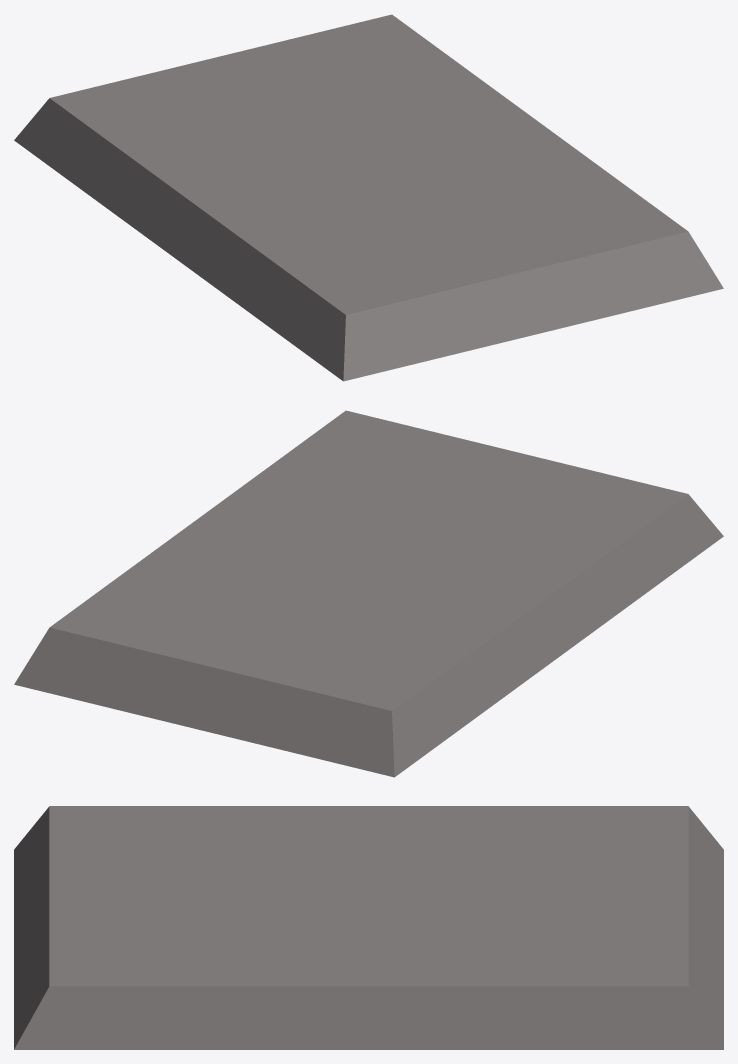
Rendered from superalloy.glb.
3 renders of one model, top to bottom at view 1: azimuth 30°, elevation 25°; view 2: azimuth 150°, elevation 25°; view 3: azimuth 270°, elevation 25°, orthographic. The views are drawn at different scales.
Parts seen in each view (by area): view 1: superalloy; view 2: superalloy; view 3: superalloy.
Part boxes in pixels (x1,y1,x2,y2): superalloy: (14, 14, 723, 381); superalloy: (14, 410, 723, 777); superalloy: (14, 806, 723, 1049).
Size of the model in its own units: 0.4001 by 0.05 by 0.5998.
1 material, 1 textured.
